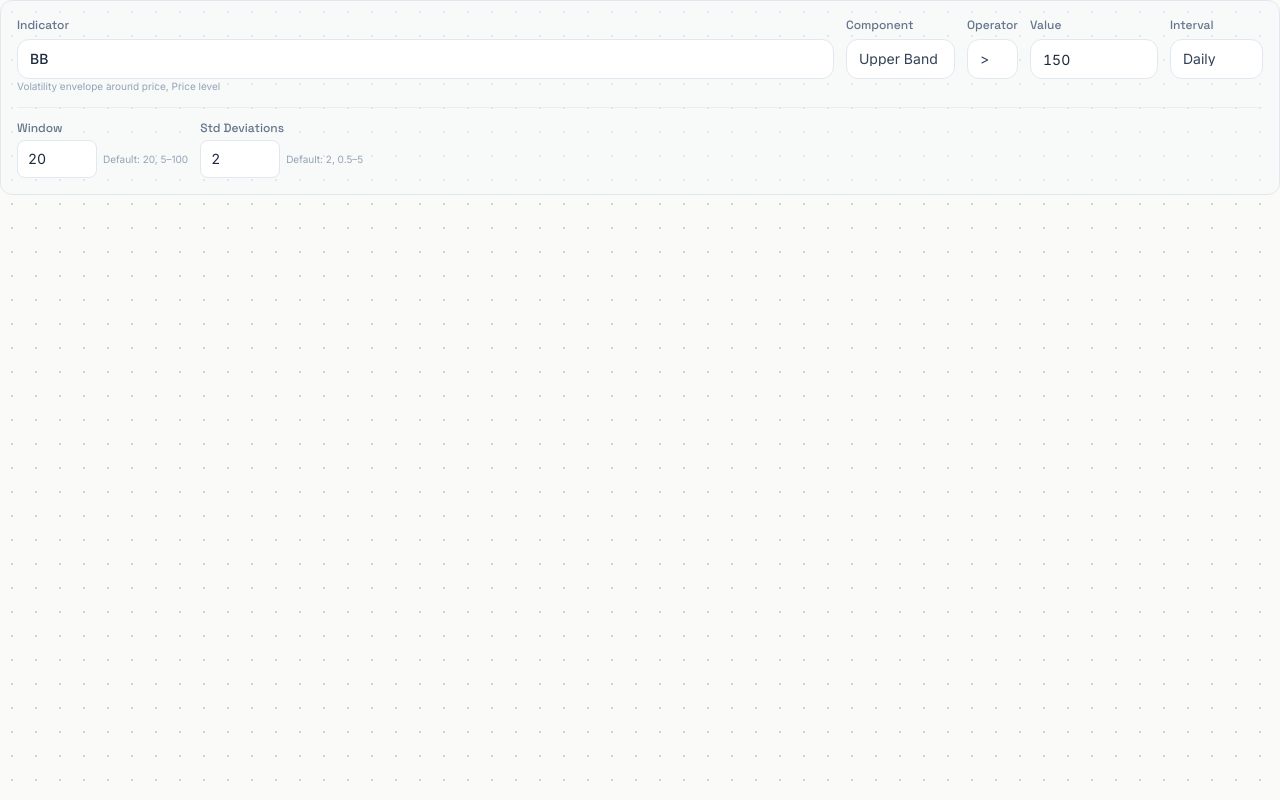
Test: ConditionRow input validation › window input shows error when emptied
This screenshot has width=1280, height=800.
Clear the field labelled "Window Default: 20, 5–100". click: (57, 159)
box: [17,140,97,178]
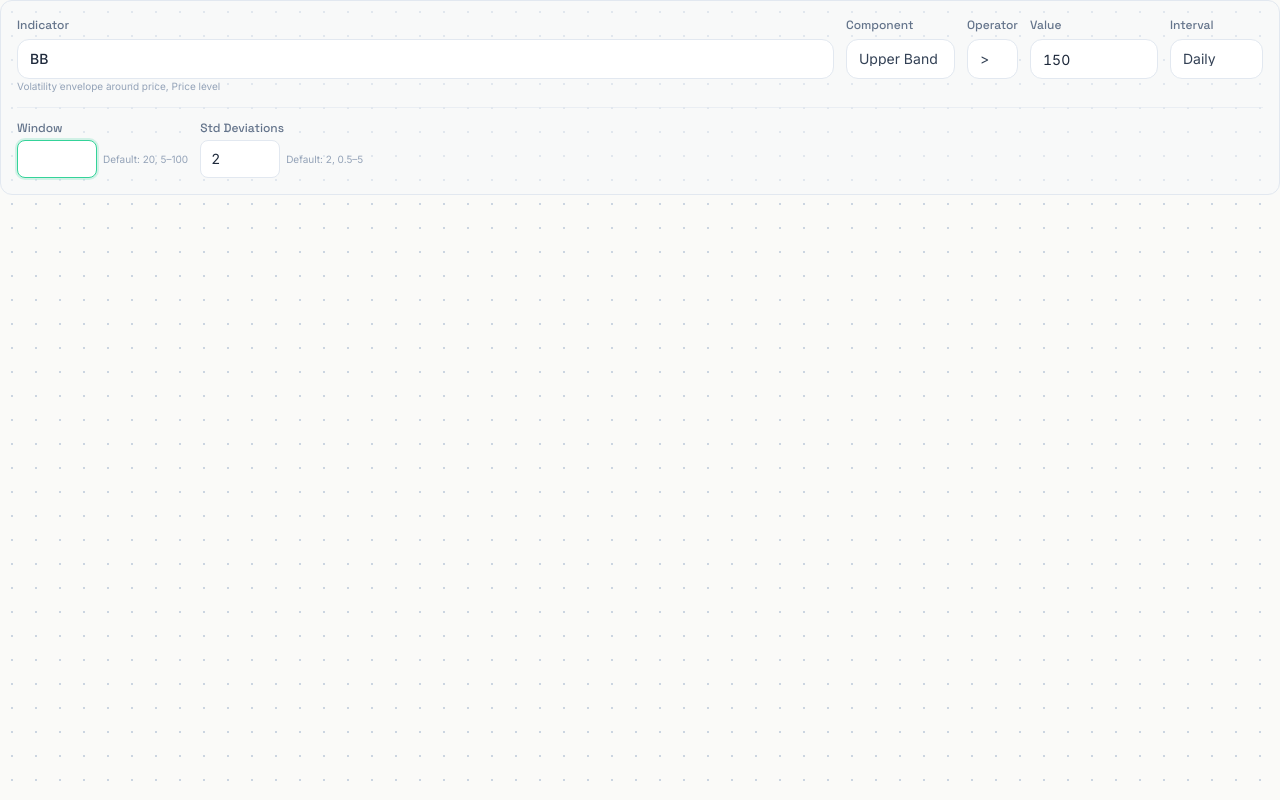
Leave the field labelled "Window Default: 20, 5–100", box [17,140,97,178]
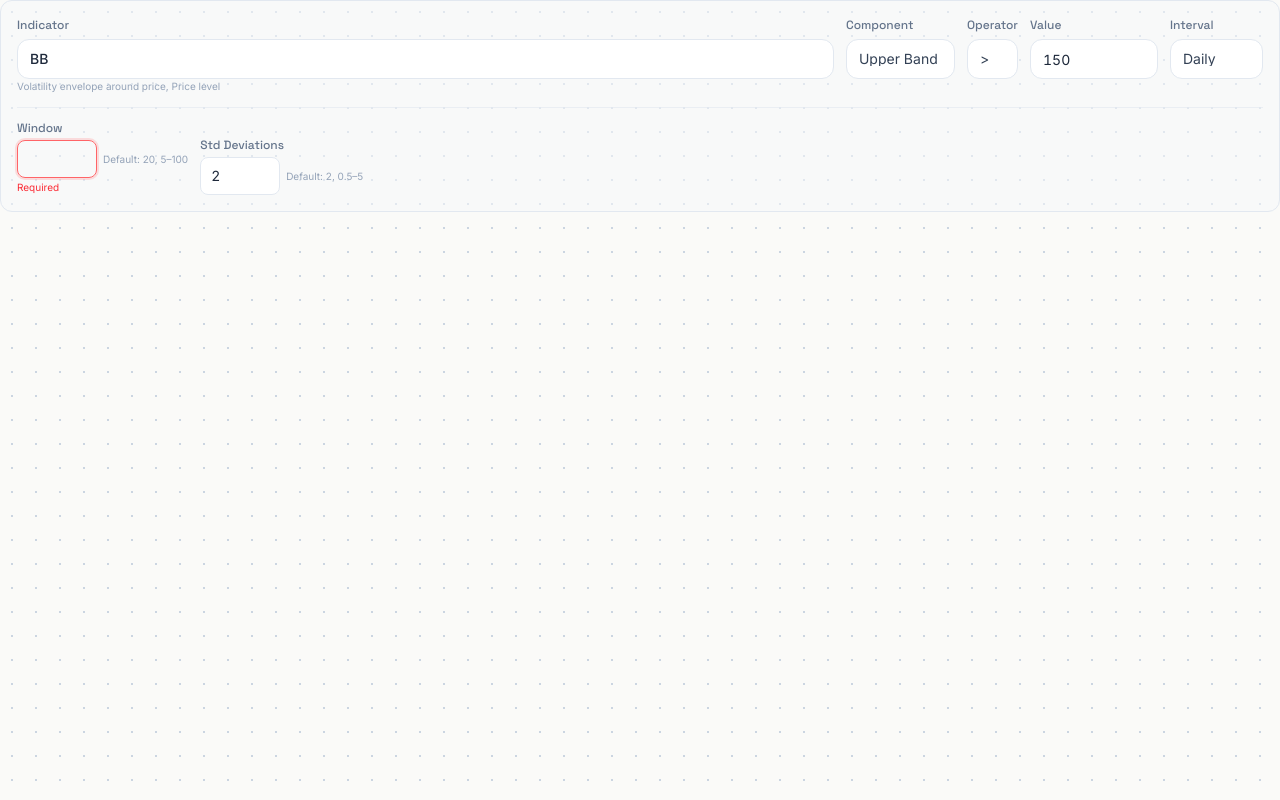
Now the text "Required" is shown, box [17,181,59,193]
